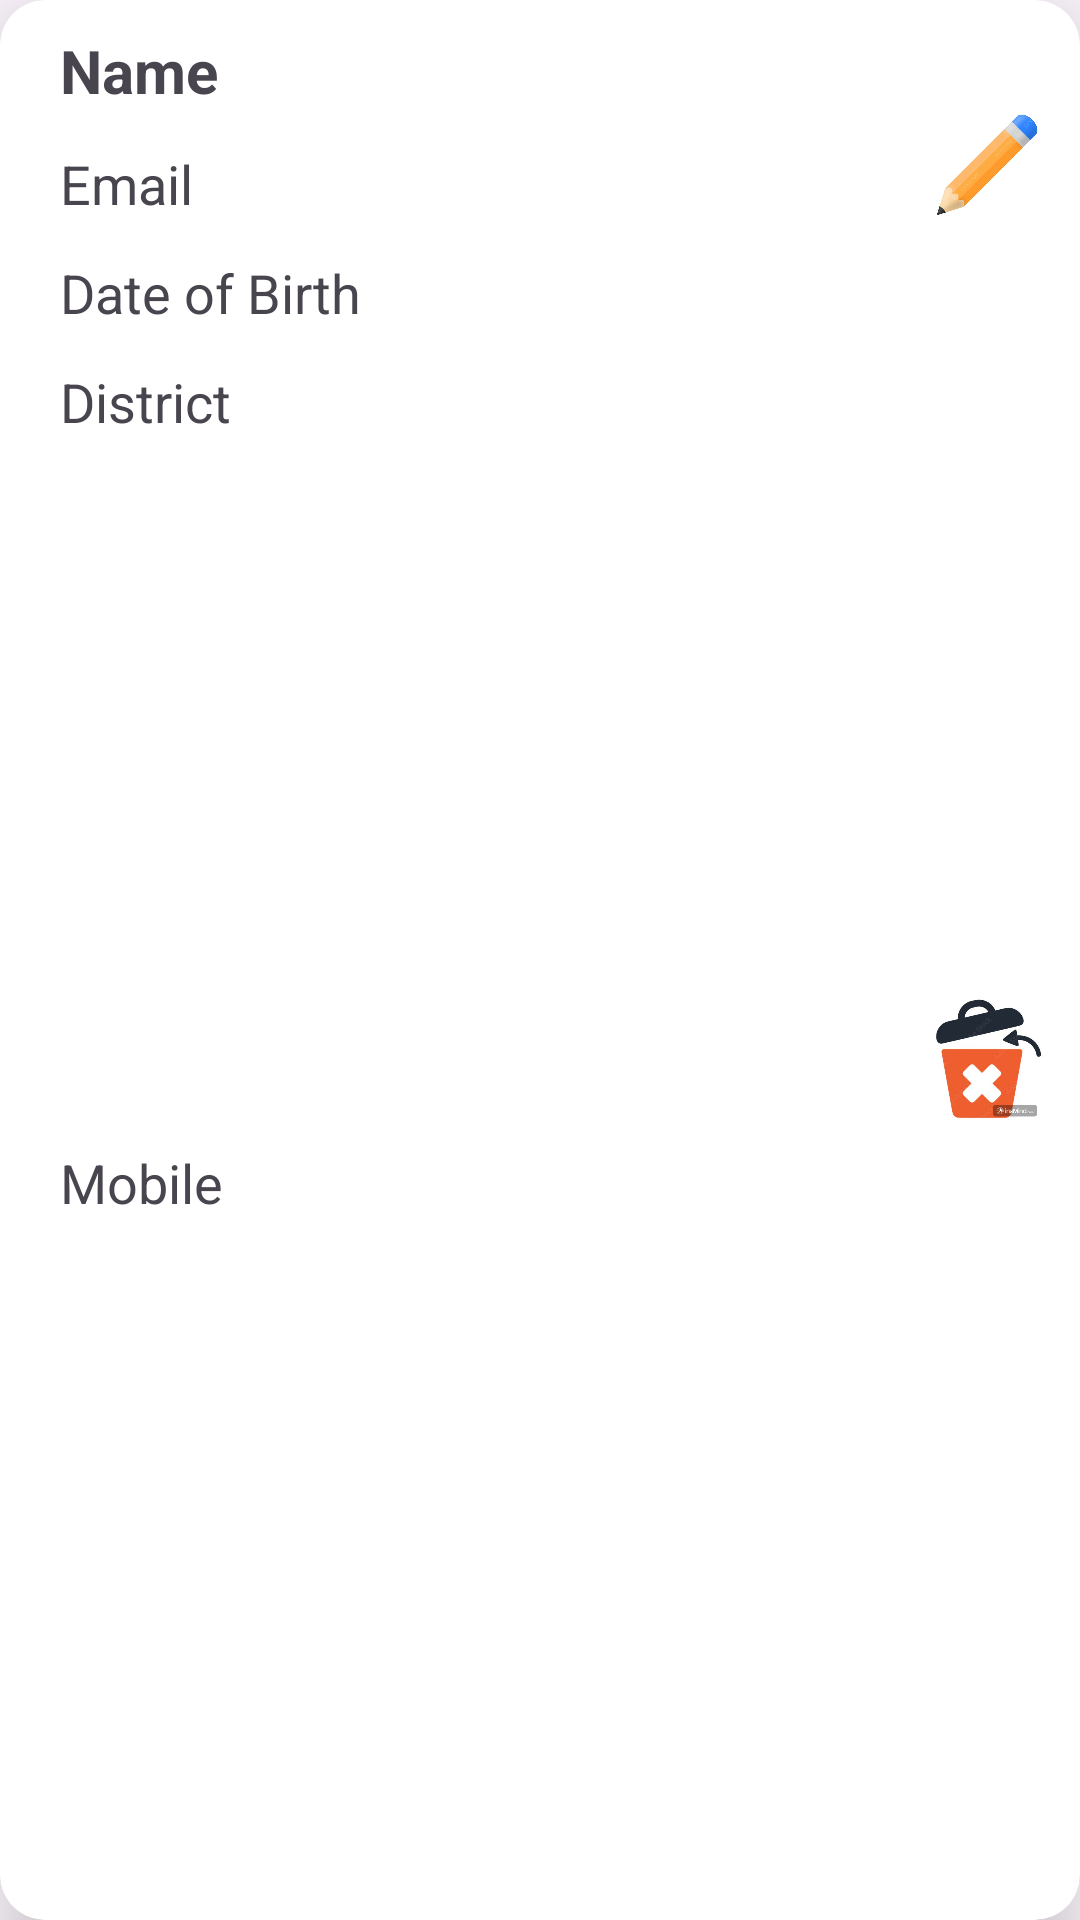

Locate icon controls on the screen. Image size 1080px×1920px, boxes as (x1, y1, x2, y2).
dell: (936, 999, 1041, 1118)
pen: (937, 115, 1037, 215)
